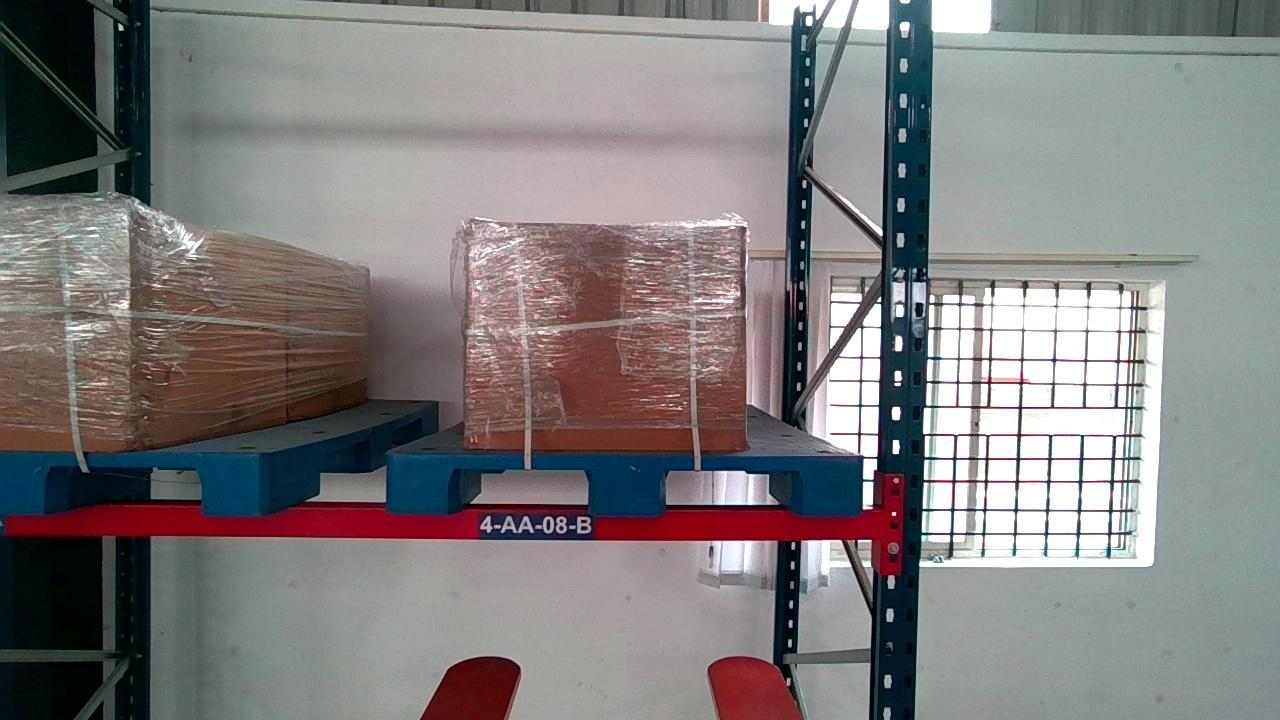h_rack: (2, 504, 875, 535)
small_pallet: (387, 455, 860, 509)
